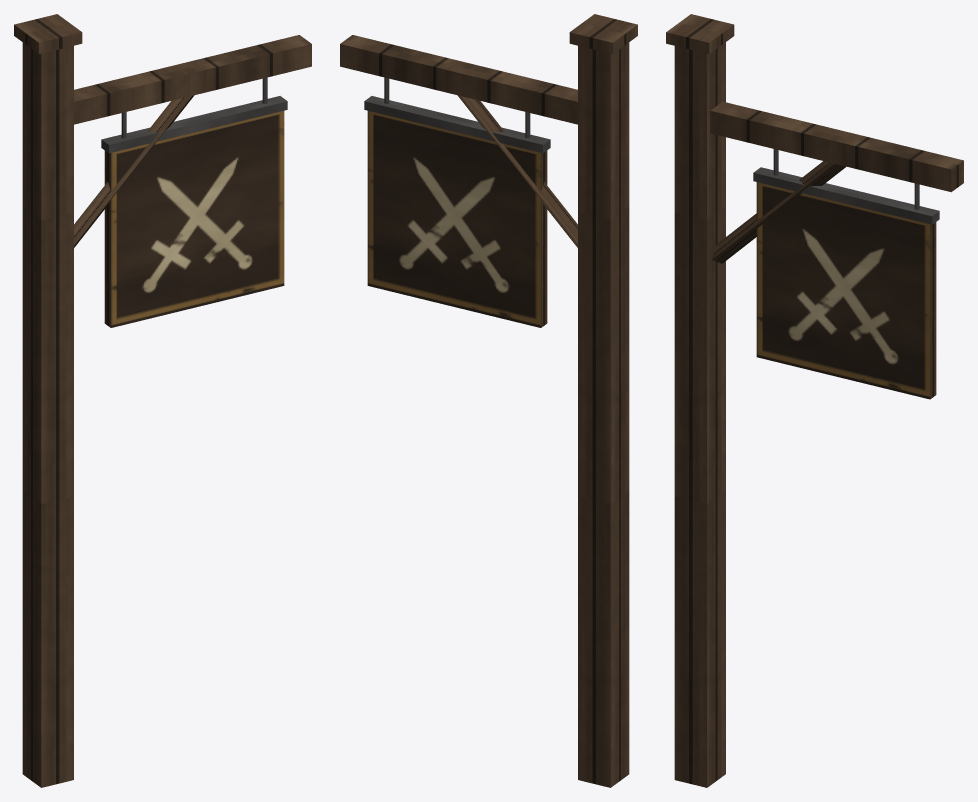
The model's file is Sign_Service_armes.gltf.
The picture shows the model from 3 angles, left to right: view 1: azimuth 30°, elevation 25°; view 2: azimuth 150°, elevation 25°; view 3: azimuth 330°, elevation 25°; orthographic projection.
Parts seen in each view (by area): view 1: Sign_Service_armes; view 2: Sign_Service_armes; view 3: Sign_Service_armes.
Boxes of the visible parts, x1,y1,x2,y2 form: Sign_Service_armes: (14, 14, 311, 787); Sign_Service_armes: (340, 14, 637, 787); Sign_Service_armes: (666, 14, 963, 787).
Size of the model in its own units: 1.03 by 2.64 by 0.16.
3 materials, 3 textured.
